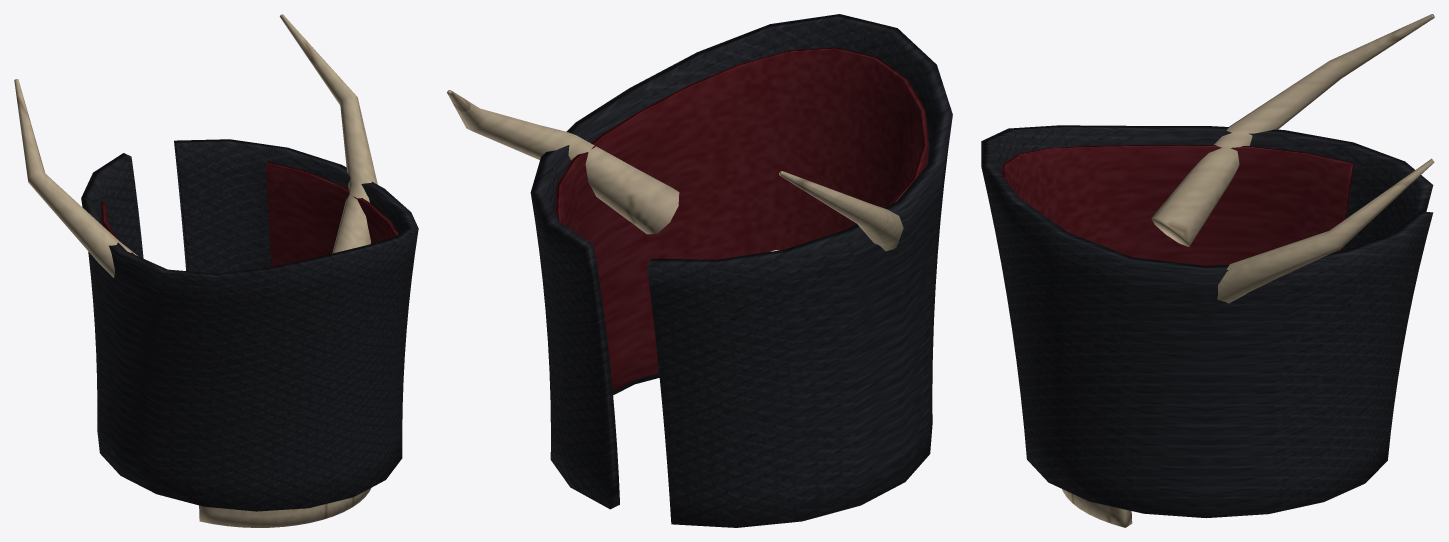
3 views of the same model, side by side, from view 1: azimuth 30°, elevation 25°; view 2: azimuth 150°, elevation 25°; view 3: azimuth 270°, elevation 25° (orthographic). The views are drawn at different scales.
Visible parts, largest first — view 1: Head_Ravenbone_cloth, Head_Ravenbone_bone, Head_Ravenbone_crimson; view 2: Head_Ravenbone_cloth, Head_Ravenbone_crimson, Head_Ravenbone_bone; view 3: Head_Ravenbone_cloth, Head_Ravenbone_crimson, Head_Ravenbone_bone.
Boxes of the visible parts, x1,y1,x2,y2 form: Head_Ravenbone_cloth: (81, 139, 418, 511); Head_Ravenbone_bone: (14, 14, 377, 527); Head_Ravenbone_crimson: (101, 161, 398, 266); Head_Ravenbone_cloth: (530, 14, 952, 527); Head_Ravenbone_crimson: (555, 47, 929, 390); Head_Ravenbone_bone: (447, 90, 903, 251); Head_Ravenbone_cloth: (981, 125, 1433, 518); Head_Ravenbone_crimson: (1001, 144, 1354, 265); Head_Ravenbone_bone: (1062, 14, 1434, 527).
Bounding box in the file's own units: 0.3128 × 0.3209 × 0.3347.
Materials: 5 (4 with a texture image).
